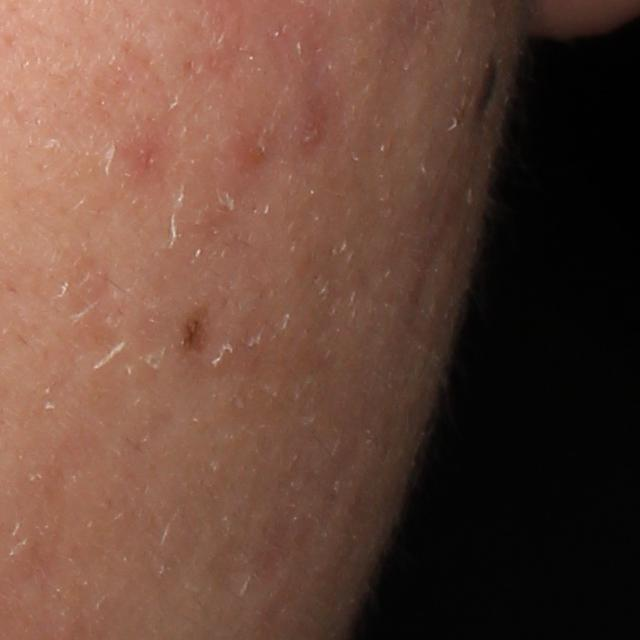nevus: (180, 302, 214, 355)
